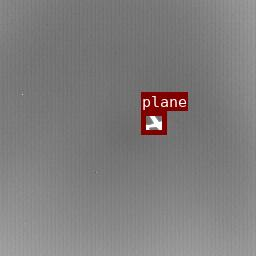plane: (141, 111, 166, 134)
